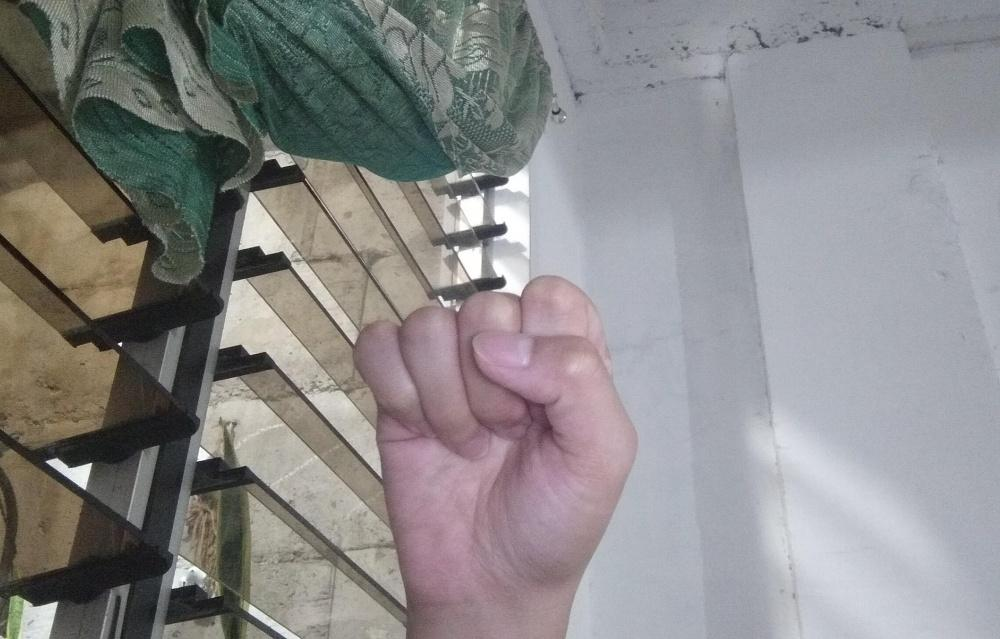s: (350, 270, 641, 612)
